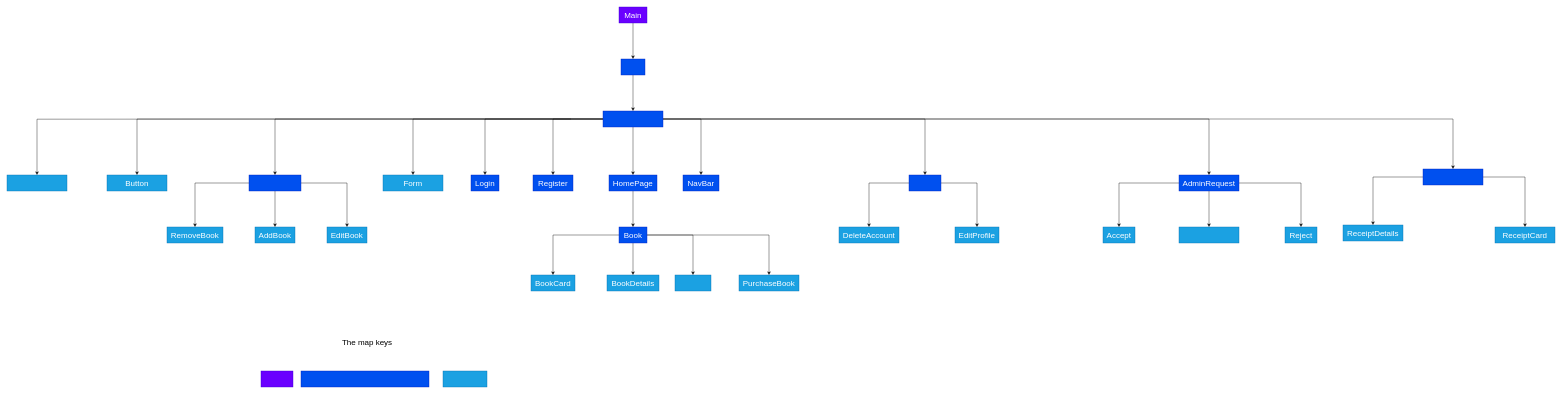
Image size: 1562x394. Some labels were removed from this diagram. Here are the shapes that lost their labels. From the top down, the box of each, then its label:
(621, 59, 645, 75): App
(603, 111, 663, 127): MainContainer
(7, 175, 67, 191): About
(249, 175, 301, 191): AdminPanel
(909, 175, 941, 191): Profile
(1423, 169, 1483, 185): Receipt
(1179, 227, 1239, 243): WriteRequest
(675, 275, 711, 291): Review
(261, 371, 293, 387): Parent
(301, 371, 429, 387): Parent and child at the same time
(443, 371, 487, 387): Child only
